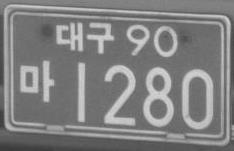0: (180, 67, 215, 130), (153, 23, 178, 59)
1: (65, 61, 96, 123)
2: (102, 62, 137, 127)
8: (141, 65, 174, 128)
9: (125, 23, 151, 56)
대구_O: (55, 19, 115, 54)
마: (18, 58, 55, 103)
